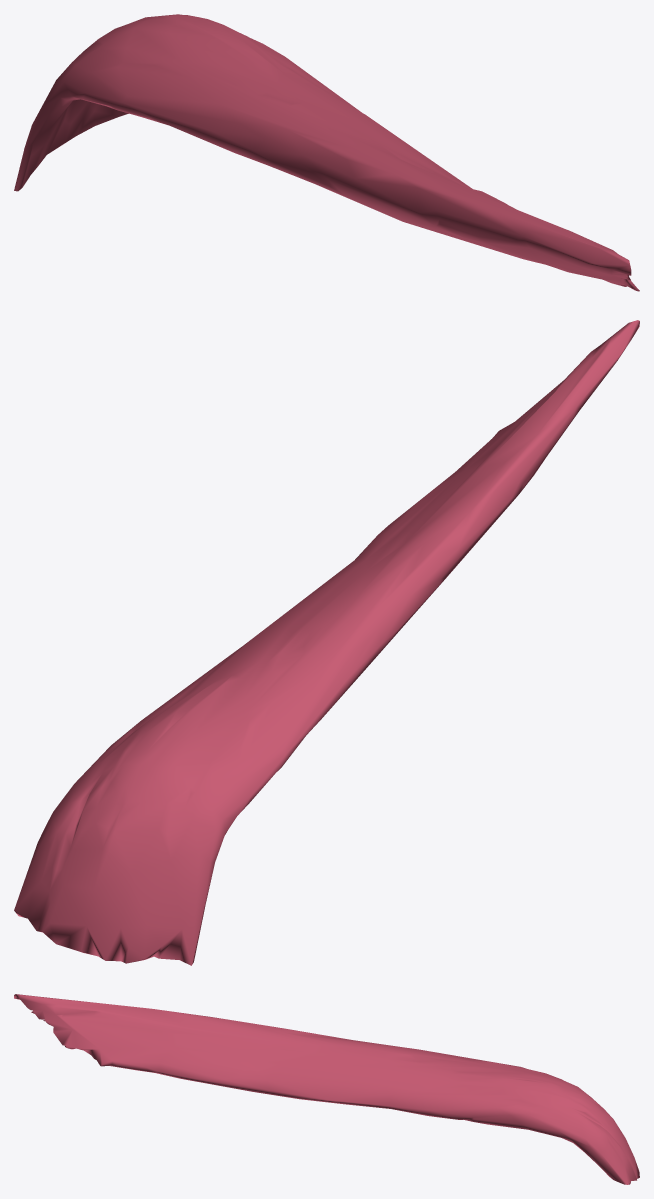
3 renders of one model, top to bottom at view 1: azimuth 30°, elevation 25°; view 2: azimuth 150°, elevation 25°; view 3: azimuth 270°, elevation 25°, orthographic. The views are drawn at different scales.
Visible parts, largest first — view 1: 右侧胸骨甲状肌; view 2: 右侧胸骨甲状肌; view 3: 右侧胸骨甲状肌.
Part boxes in pixels (x1,y1,x2,y2): 右侧胸骨甲状肌: (14, 14, 639, 291); 右侧胸骨甲状肌: (14, 320, 639, 965); 右侧胸骨甲状肌: (14, 994, 639, 1184).
Size of the model in its own units: 0.0269 by 0.0441 by 0.1455.
